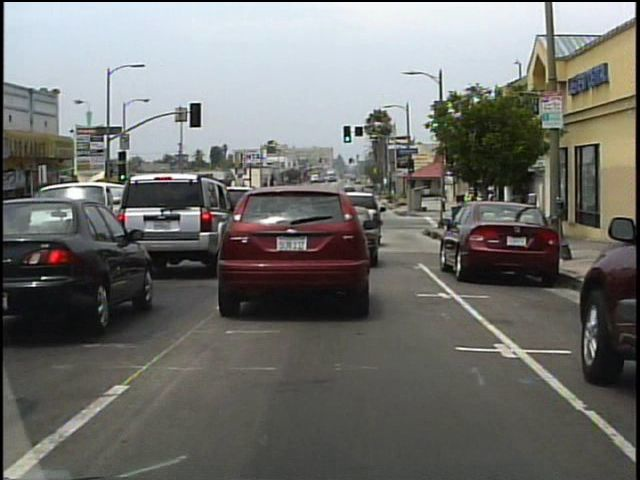person: (464, 194, 477, 240), (478, 195, 491, 240)
